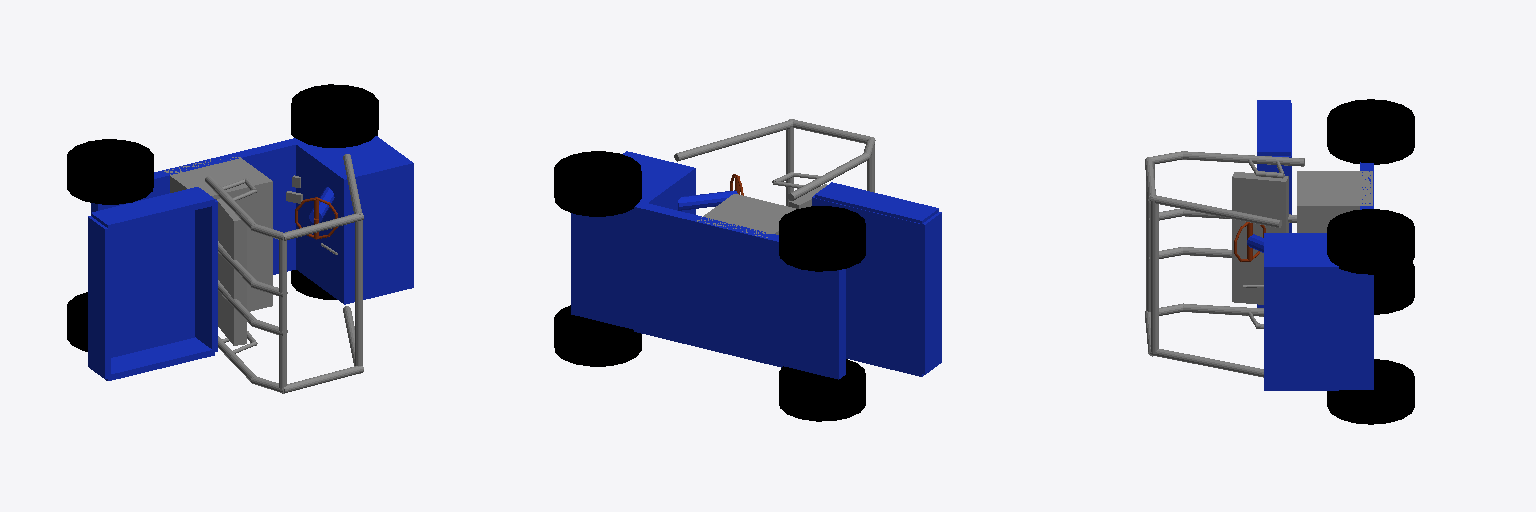
The model's file is polaris_ev.obj.
3 renders of one model, left to right at view 1: azimuth 30°, elevation 25°; view 2: azimuth 150°, elevation 25°; view 3: azimuth 270°, elevation 25°, orthographic.
Visible parts, largest first — view 1: cube8, cube1, cylinder2, cube6, cylinder4, cube, cube3, cube2, cube7, cube4, cube5, cylinder35 (+6 smaller); view 2: cube, cube1, cube8, cylinder4, cylinder2, cylinder1, cylinder3, cube3, cube4, cube6, cylinder29, cylinder31 (+2 smaller); view 3: cube8, cylinder4, cylinder2, cube7, cylinder3, cube6, cube4, cylinder1, cylinder35, cylinder29, cylinder31, cylinder30 (+2 smaller).
Boxes of the visible parts, box(x1,y1,x2,y2) form: cube8: box(295, 136, 413, 304); cube1: box(111, 210, 194, 357); cylinder2: box(67, 139, 153, 204); cube6: box(164, 157, 272, 311); cylinder4: box(291, 84, 378, 147); cube: box(91, 138, 302, 274); cube3: box(88, 216, 110, 378); cube2: box(195, 199, 217, 351); cube7: box(216, 198, 246, 345); cube4: box(91, 187, 214, 230); cube5: box(91, 337, 214, 380); cylinder35: box(355, 220, 362, 365); cube: box(614, 202, 845, 379); cube1: box(814, 198, 921, 373); cube8: box(571, 151, 695, 332); cylinder4: box(554, 151, 641, 216); cylinder2: box(779, 206, 865, 271); cylinder1: box(779, 359, 865, 421); cylinder3: box(554, 305, 641, 366); cube3: box(922, 212, 941, 374); cube4: box(815, 182, 938, 223); cube6: box(697, 194, 795, 237); cylinder29: box(674, 119, 794, 161); cylinder31: box(788, 152, 869, 200); cube8: box(1264, 233, 1373, 390); cylinder4: box(1327, 209, 1414, 274); cylinder2: box(1327, 99, 1414, 164); cube7: box(1232, 172, 1288, 304); cylinder3: box(1327, 359, 1414, 424); cube6: box(1297, 171, 1372, 232); cube4: box(1257, 100, 1290, 155); cylinder1: box(1374, 262, 1414, 314); cylinder35: box(1151, 201, 1158, 353); cylinder29: box(1149, 195, 1281, 227); cylinder31: box(1182, 151, 1304, 166); cylinder30: box(1150, 347, 1263, 377).
Size of the model in its own units: 2.73 by 1.43 by 1.96.